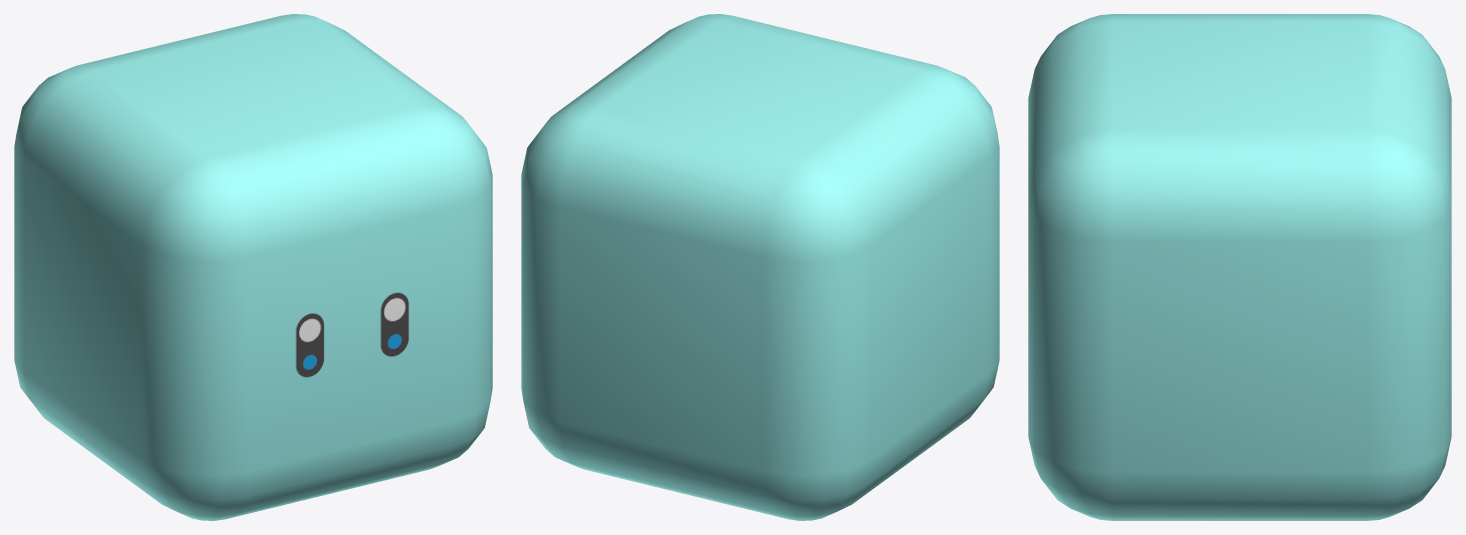
3 views of the same model, side by side, from view 1: azimuth 30°, elevation 25°; view 2: azimuth 150°, elevation 25°; view 3: azimuth 270°, elevation 25° (orthographic). The views are drawn at different scales.
Visible parts, largest first — view 1: ChamferBox001; view 2: ChamferBox001; view 3: ChamferBox001.
Boxes of the visible parts, x1,y1,x2,y2 form: ChamferBox001: [14, 14, 492, 520]; ChamferBox001: [521, 14, 999, 520]; ChamferBox001: [1028, 14, 1451, 520].
Size of the model in its own units: 3.94 by 3.94 by 3.94.
Materials: 1 (1 with a texture image).
